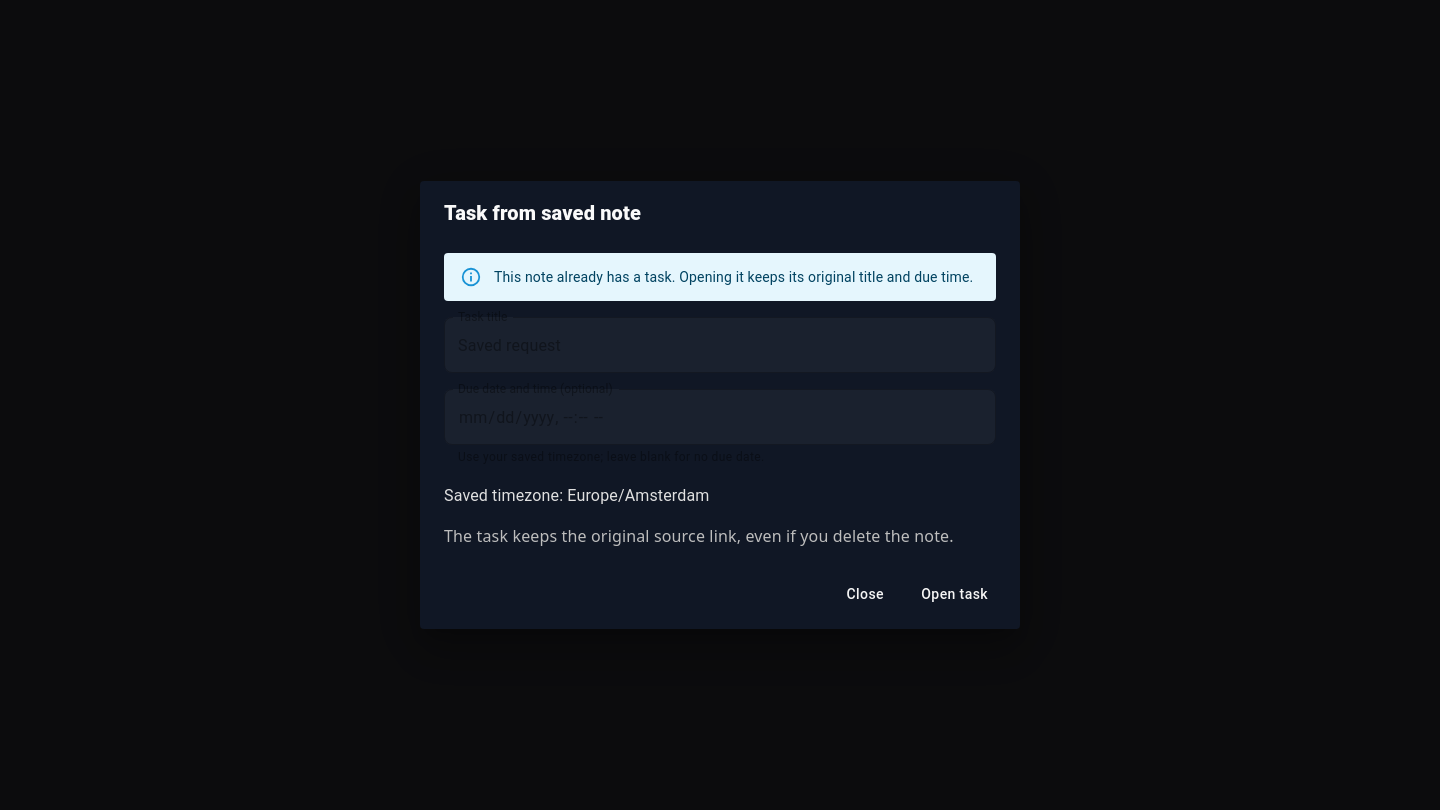
Test: saved note task dialog › opens the retained completed task and does not let the form replace its original values
Click the button "Open task" at (955, 594), box [913,576,996,613]
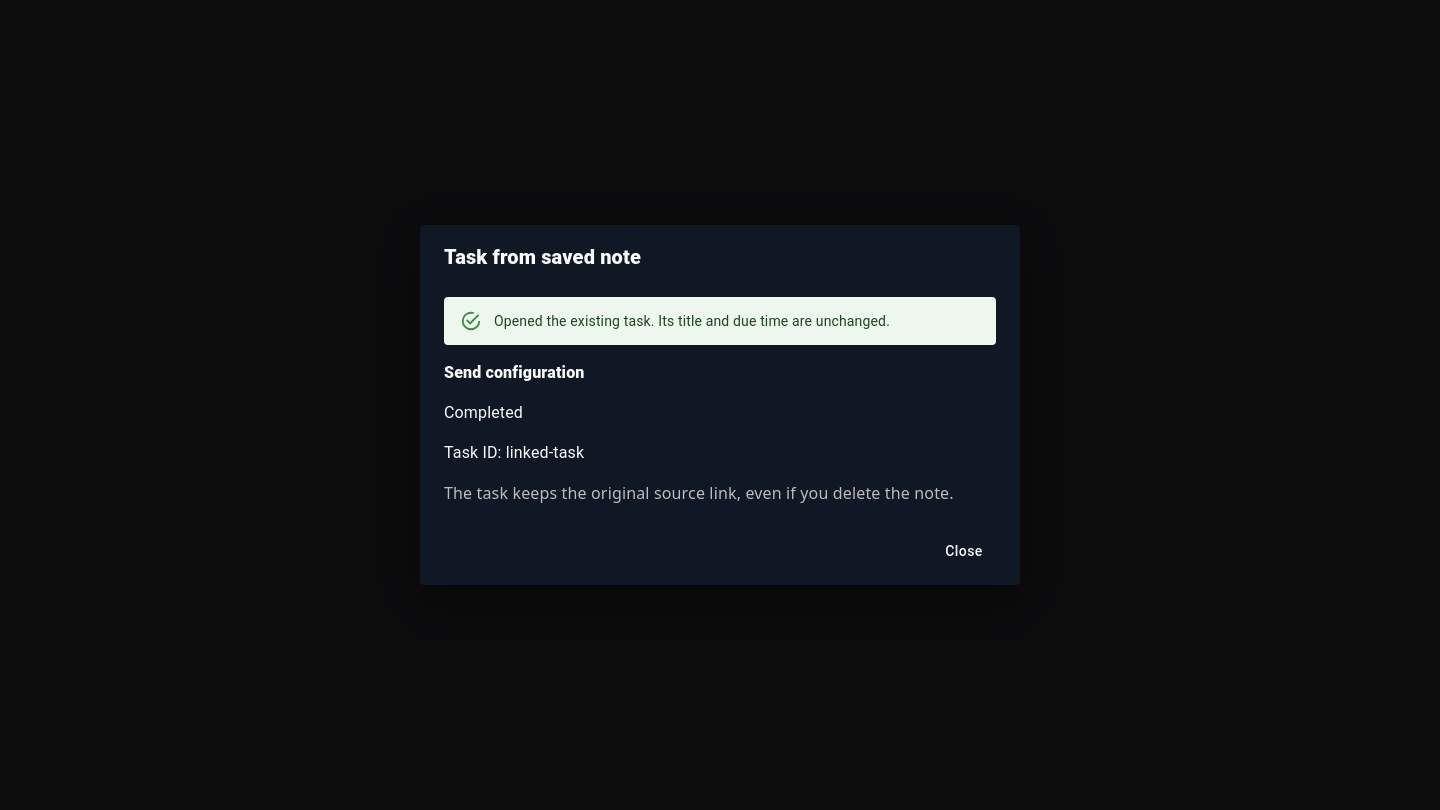
expect the text "Opened the existing task. Its title and due time are unchanged." is shown: met, box [494,313,890,329]
expect the text "Completed" is shown: met, box [444,403,523,422]
